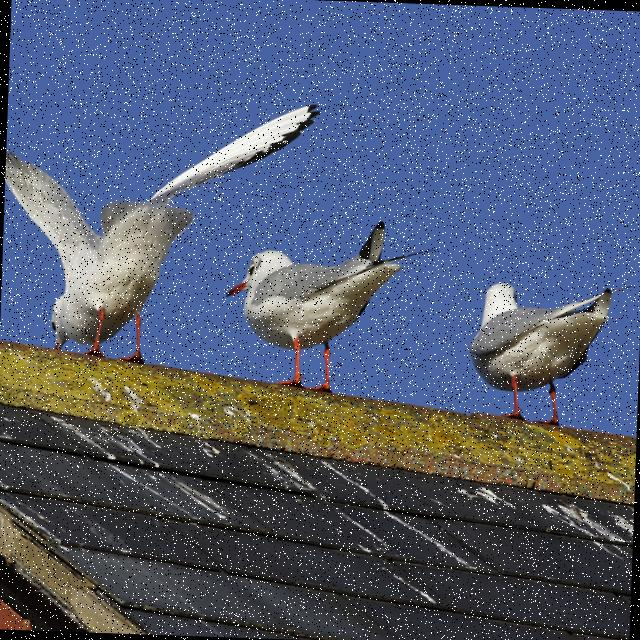bird: (0, 93, 322, 369), (220, 214, 430, 396), (466, 277, 630, 428)
